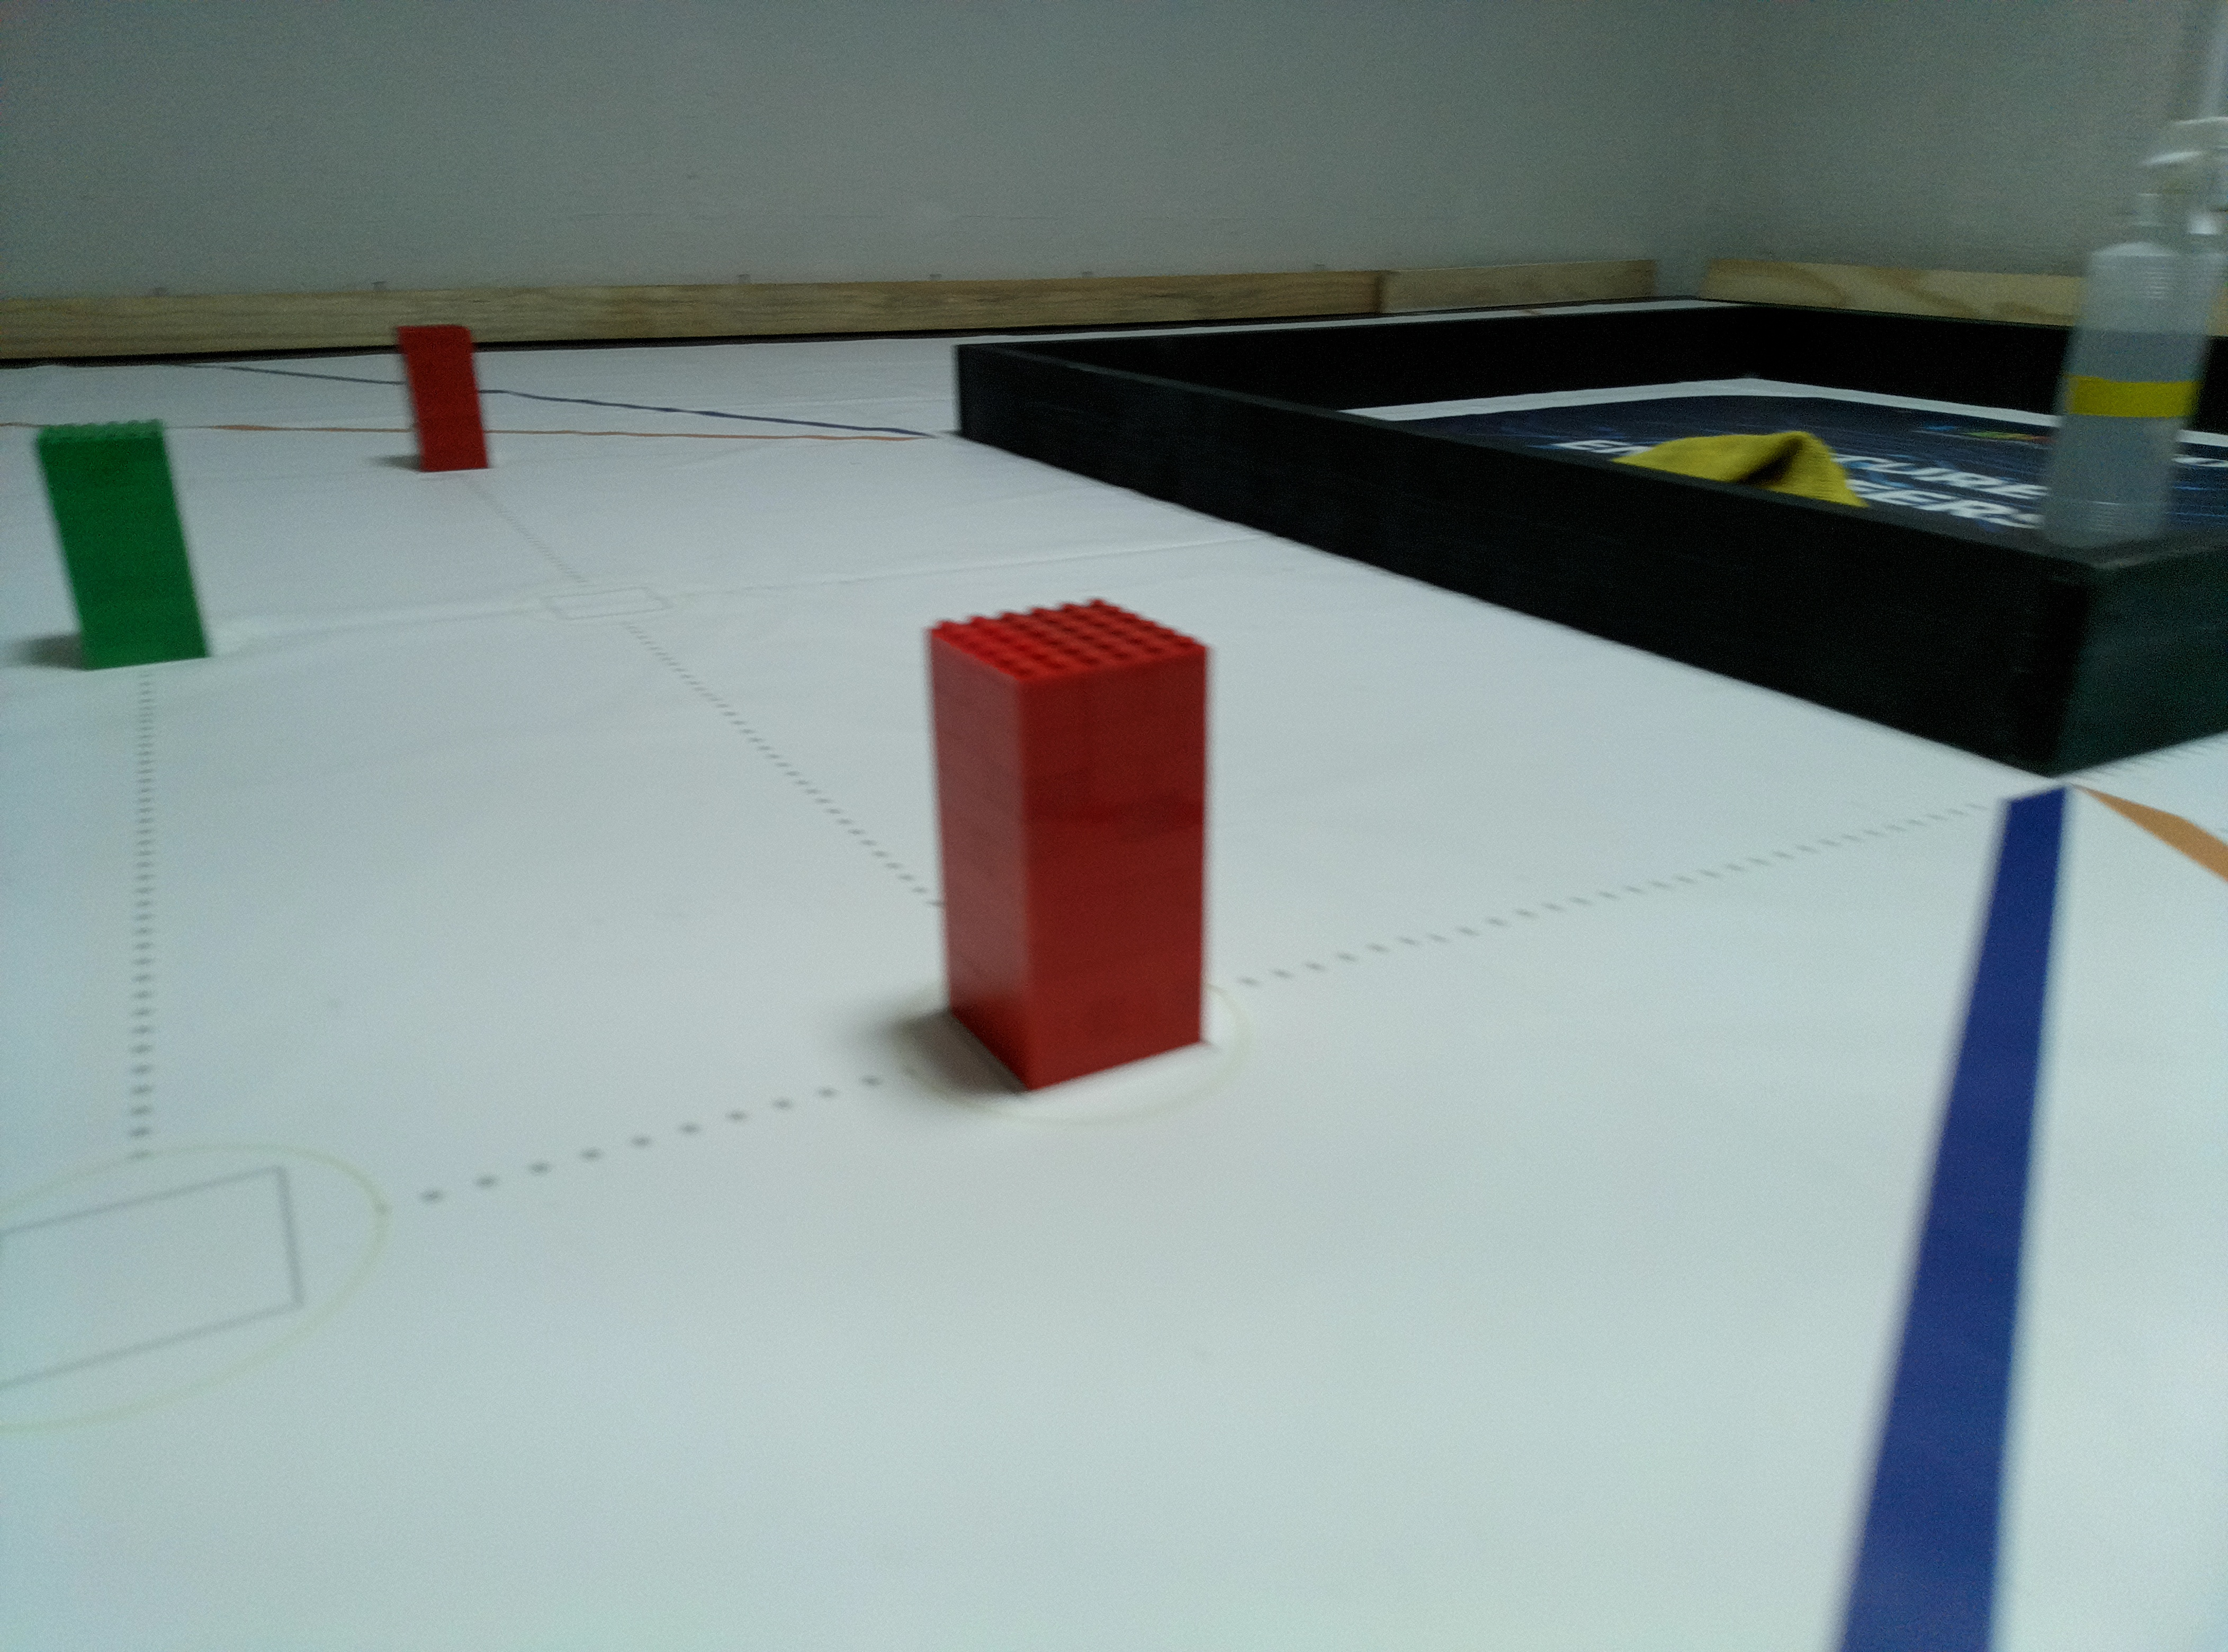greenbox: (31, 420, 212, 672)
redbox: (918, 590, 1215, 1093), (394, 324, 491, 472)
